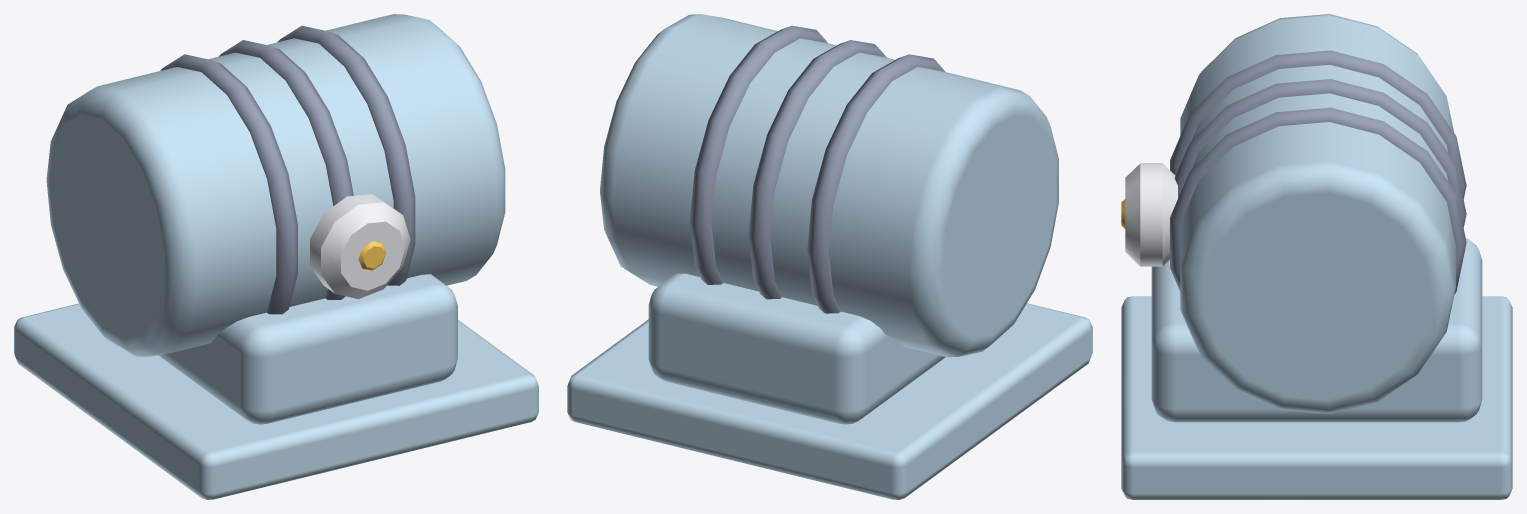
File: R4X_DrivePower.glb
The picture shows the model from 3 angles, left to right: view 1: azimuth 30°, elevation 25°; view 2: azimuth 150°, elevation 25°; view 3: azimuth 270°, elevation 25°; orthographic projection.
Visible parts, largest first — view 1: R4X_DrivePower_Body; view 2: R4X_DrivePower_Body; view 3: R4X_DrivePower_Body.
Part boxes in pixels (box(x1,y1,x2,y2)): R4X_DrivePower_Body: box(14, 14, 538, 499); R4X_DrivePower_Body: box(567, 14, 1092, 499); R4X_DrivePower_Body: box(1121, 14, 1512, 499).
Size of the model in its own units: 0.52 by 0.5032 by 0.52.
